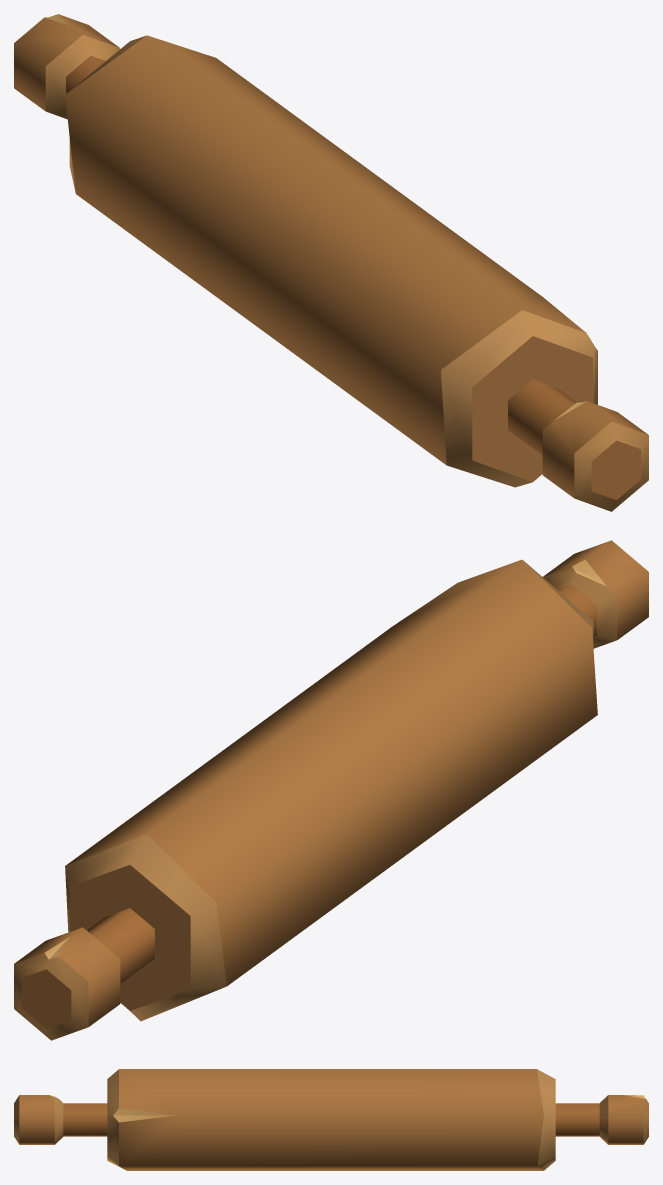
The model's file is RollingPin_A.glb.
3 views of the same model, one above another, from view 1: azimuth 30°, elevation 25°; view 2: azimuth 150°, elevation 25°; view 3: azimuth 270°, elevation 25° (orthographic). The views are drawn at different scales.
Visible parts, largest first — view 1: RollingPin_A; view 2: RollingPin_A; view 3: RollingPin_A.
Part boxes in pixels (left/top/right/bottom): RollingPin_A: left=14, top=14, right=648, bottom=511; RollingPin_A: left=14, top=540, right=648, bottom=1040; RollingPin_A: left=14, top=1069, right=648, bottom=1170.
Bounding box in the file's own units: 0.0871 × 0.1005 × 0.5686.
1 material, 1 textured.
